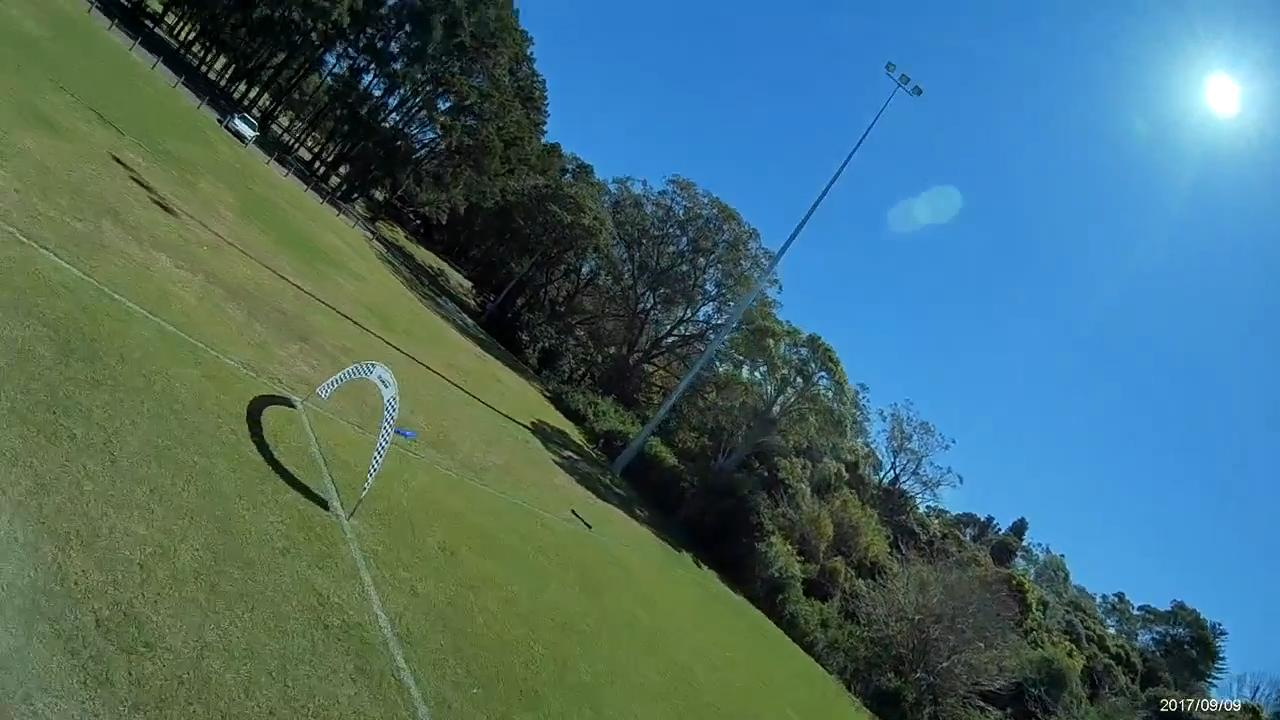gate: (315, 356, 402, 501)
